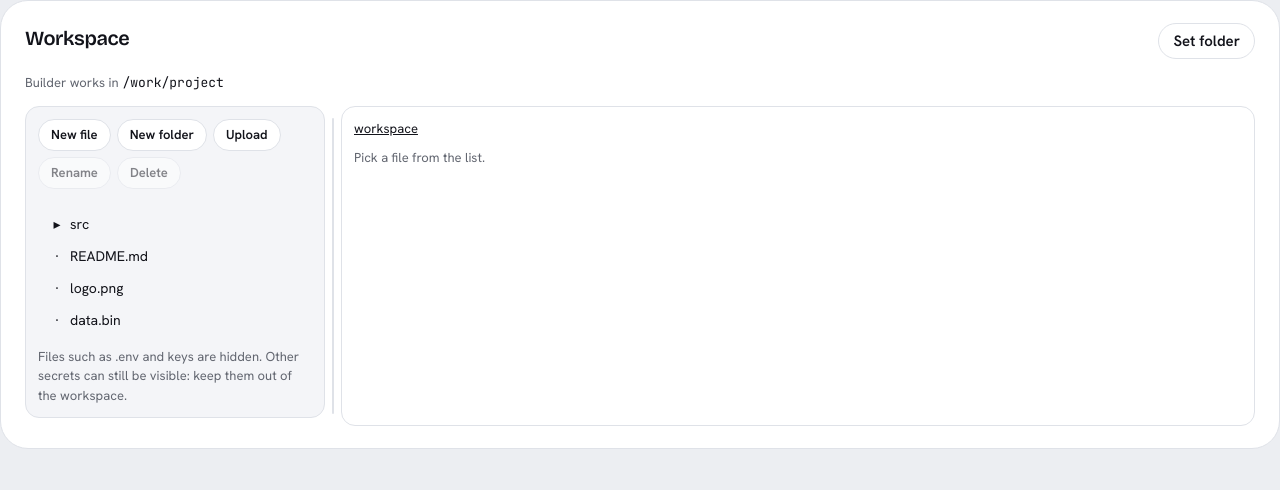
Scenario: the tree loads lazily: a folder is listed only when opened
The width and height of the screenshot is (1280, 490).
Click the list item "▸ src". click: click(57, 224)
box: [38, 208, 312, 240]
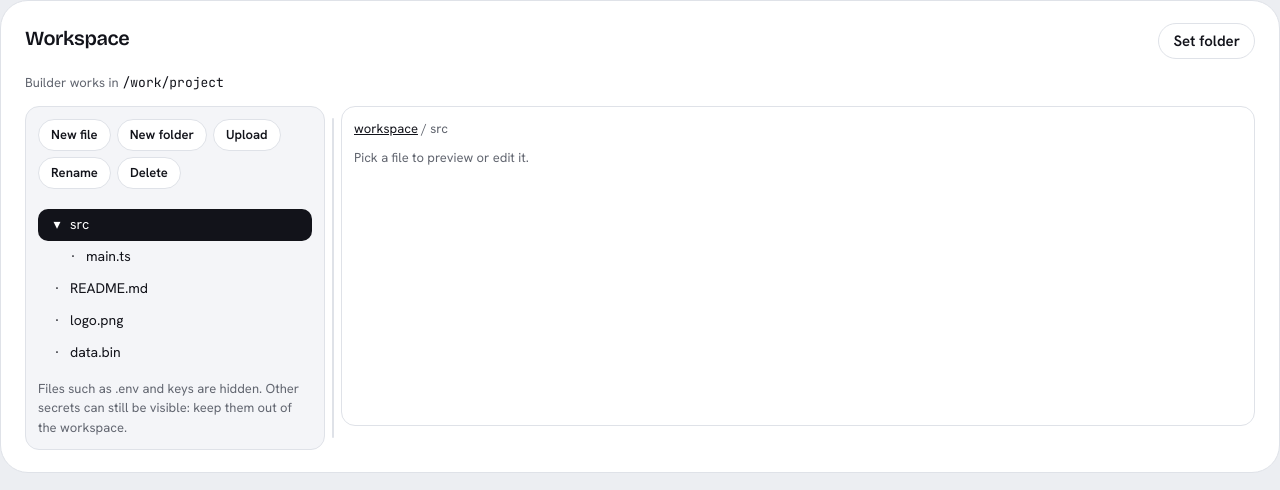
Expected: the list item "· main.ts" is shown, [38, 240, 312, 272]
Expected: the list item "▾ src" is expanded, [38, 208, 312, 240]
